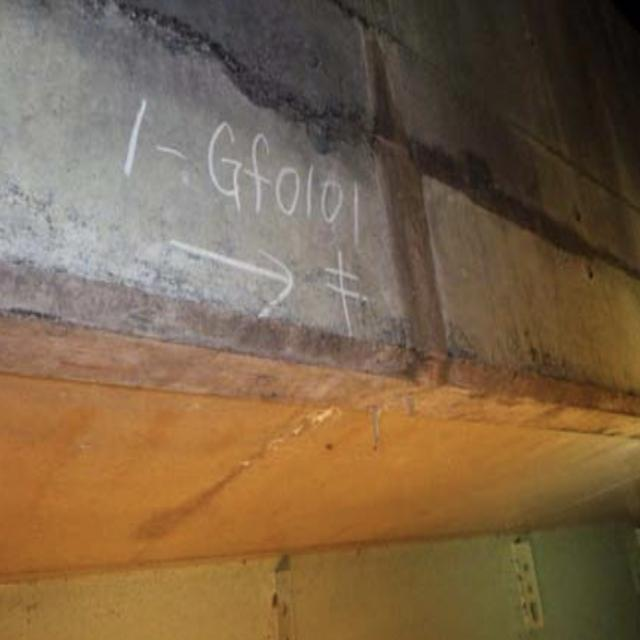leakage: (360, 100, 459, 393)
